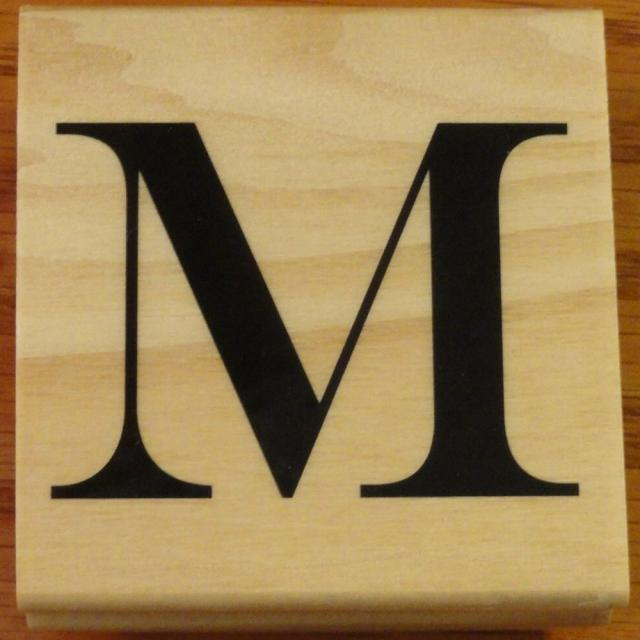M: (46, 72, 590, 539)
